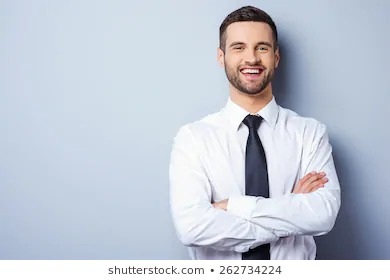F_shirt: (166, 95, 339, 254)
F_tie: (241, 114, 270, 259)
